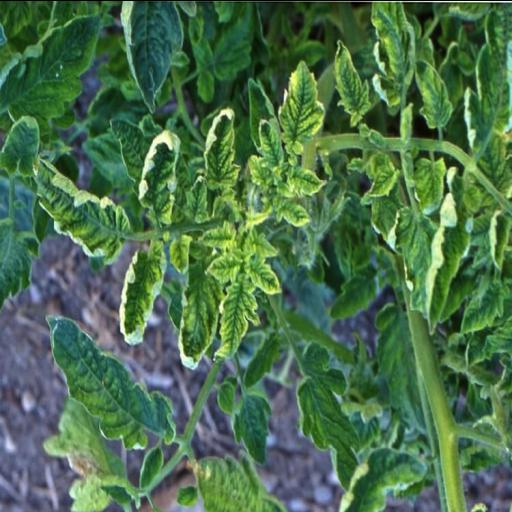disease_tomato: (32, 142, 130, 260), (117, 240, 173, 348), (368, 0, 419, 104), (276, 56, 326, 158), (212, 271, 256, 363), (138, 126, 178, 220), (333, 33, 373, 121), (204, 104, 240, 190), (410, 150, 448, 216), (366, 154, 402, 198), (247, 254, 284, 296), (204, 248, 242, 288)
